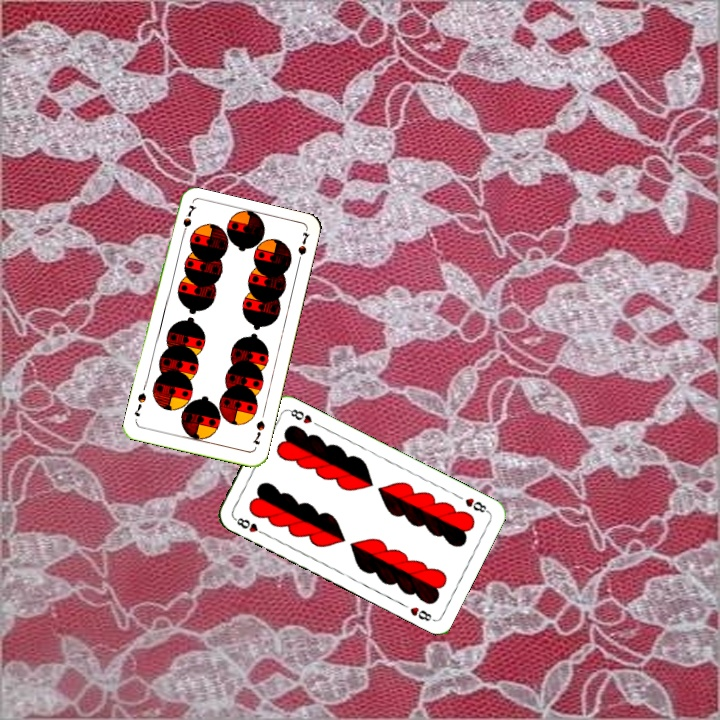H8: (230, 514, 268, 538), (461, 494, 491, 515)
S7: (178, 201, 197, 241), (249, 416, 267, 447)
